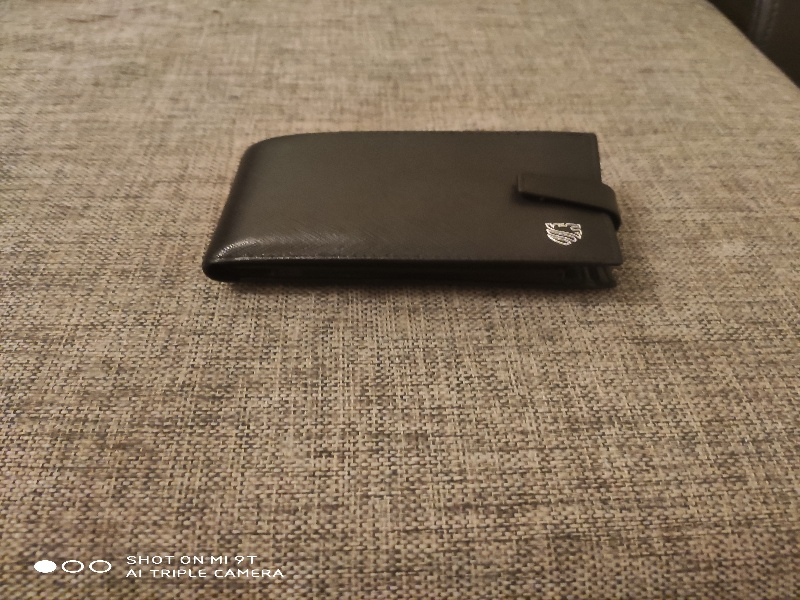wallet: (191, 115, 645, 305)
